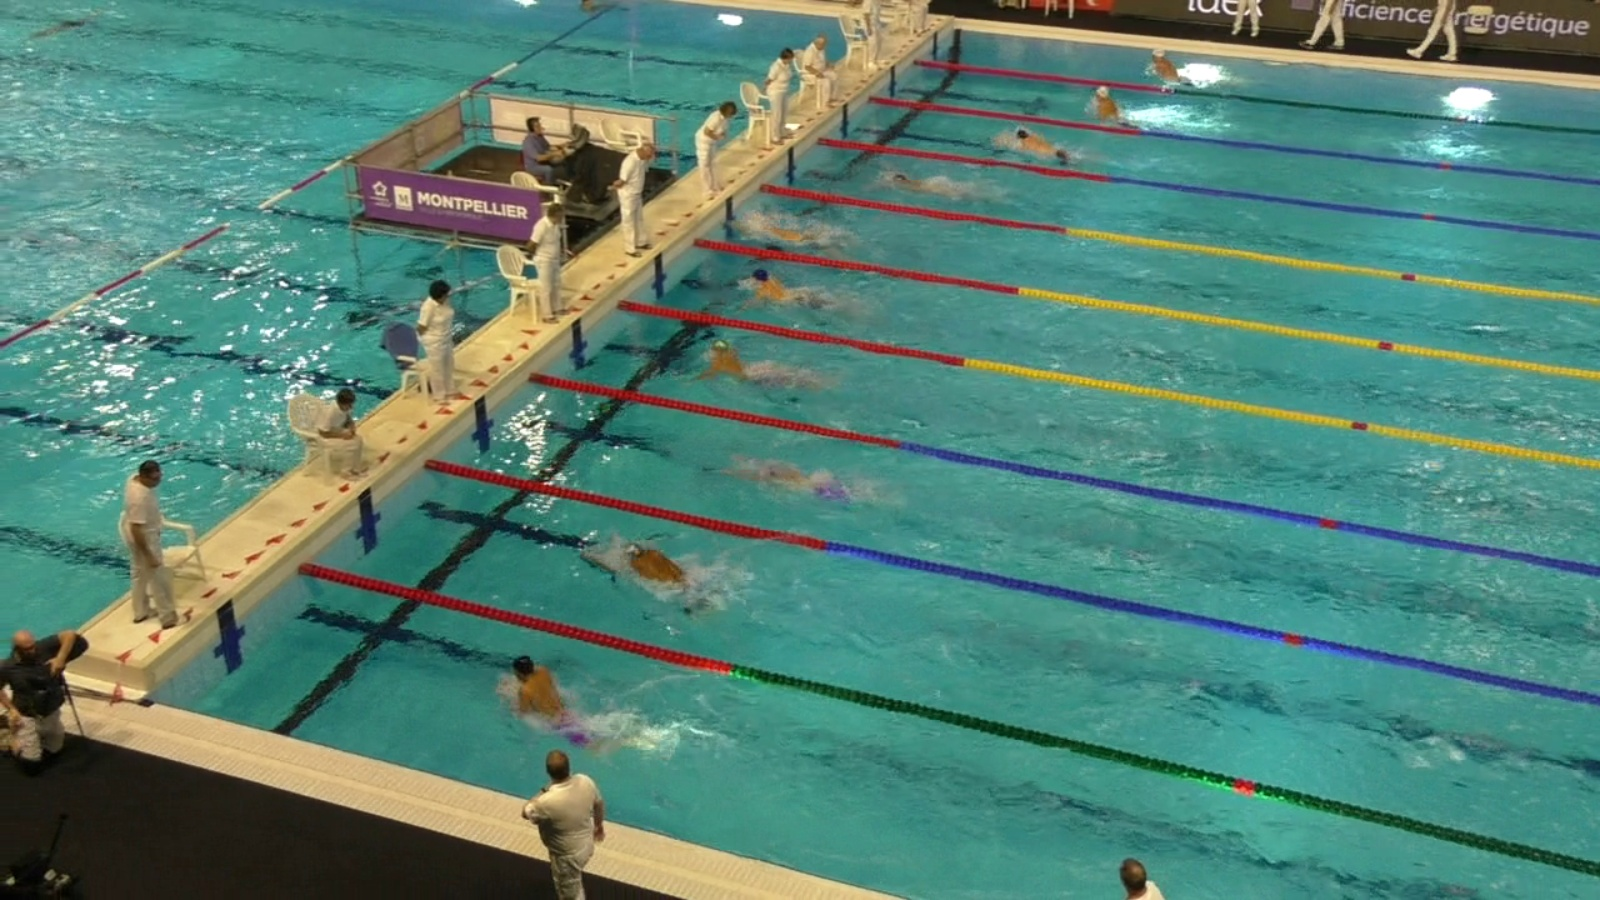swimmerwdd: (502, 651, 649, 756), (614, 541, 735, 623), (697, 335, 830, 404), (727, 455, 873, 512), (737, 269, 863, 319), (998, 124, 1099, 168), (863, 162, 977, 200), (1087, 84, 1155, 132), (755, 219, 846, 253), (1149, 47, 1201, 95)
